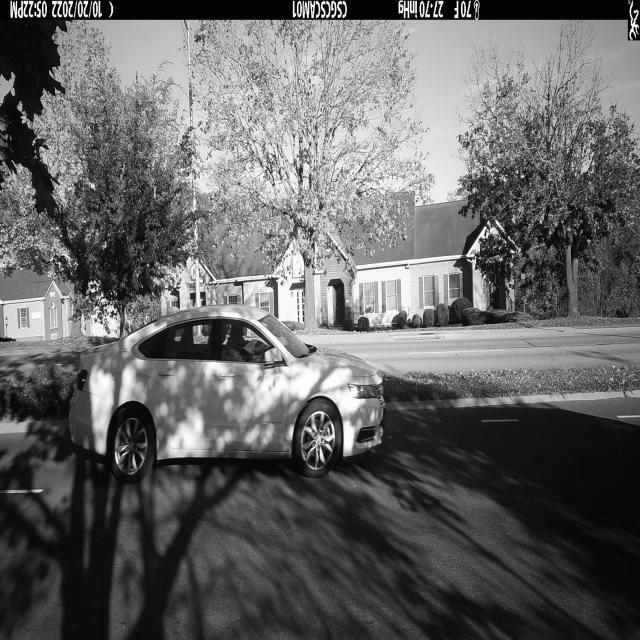Sedan: (65, 306, 384, 480)
